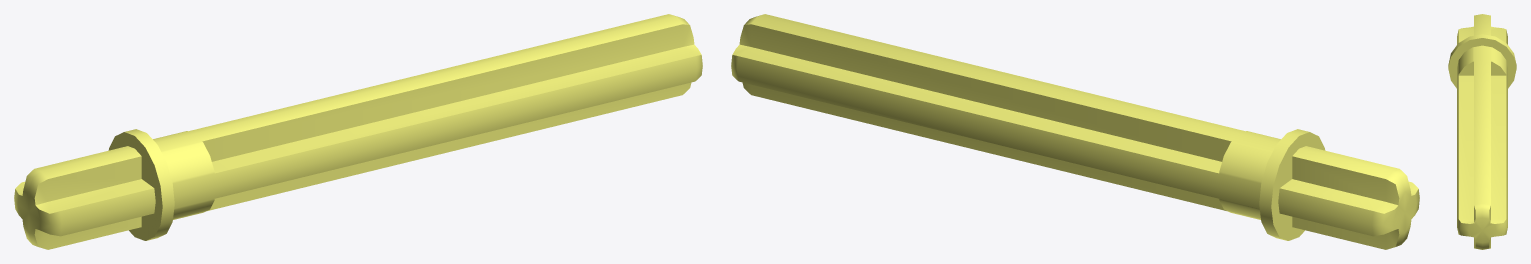
3 views of the same model, side by side, from view 1: azimuth 30°, elevation 25°; view 2: azimuth 150°, elevation 25°; view 3: azimuth 270°, elevation 25° (orthographic). The views are drawn at different scales.
Parts seen in each view (by area): view 1: 59426.dat; view 2: 59426.dat; view 3: 59426.dat.
Part boxes in pixels (bbox=[...]): 59426.dat: bbox=[14, 14, 702, 249]; 59426.dat: bbox=[731, 14, 1419, 249]; 59426.dat: bbox=[1448, 14, 1516, 249].
Size of the model in its own units: 0.0436 by 0.0064 by 0.0064.
